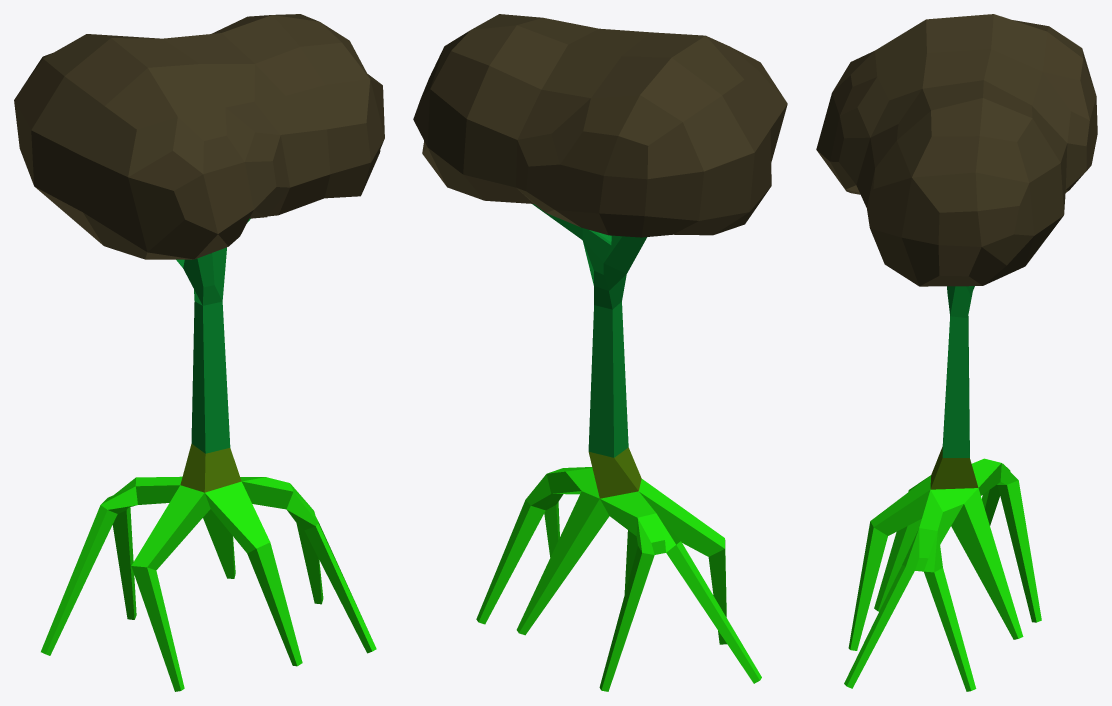
The model's file is LargeLeafedOrangeMangrove.fbx.
3 views of the same model, side by side, from view 1: azimuth 30°, elevation 25°; view 2: azimuth 150°, elevation 25°; view 3: azimuth 270°, elevation 25° (orthographic). The views are drawn at different scales.
Visible parts, largest first — view 1: LargeLeafedOrangeMangrove; view 2: LargeLeafedOrangeMangrove; view 3: LargeLeafedOrangeMangrove.
Boxes of the visible parts, bbox=[...] form: LargeLeafedOrangeMangrove: bbox=[14, 14, 384, 691]; LargeLeafedOrangeMangrove: bbox=[413, 14, 787, 691]; LargeLeafedOrangeMangrove: bbox=[816, 14, 1097, 691].
Bounding box in the file's own units: 126 × 228 × 97.9.
